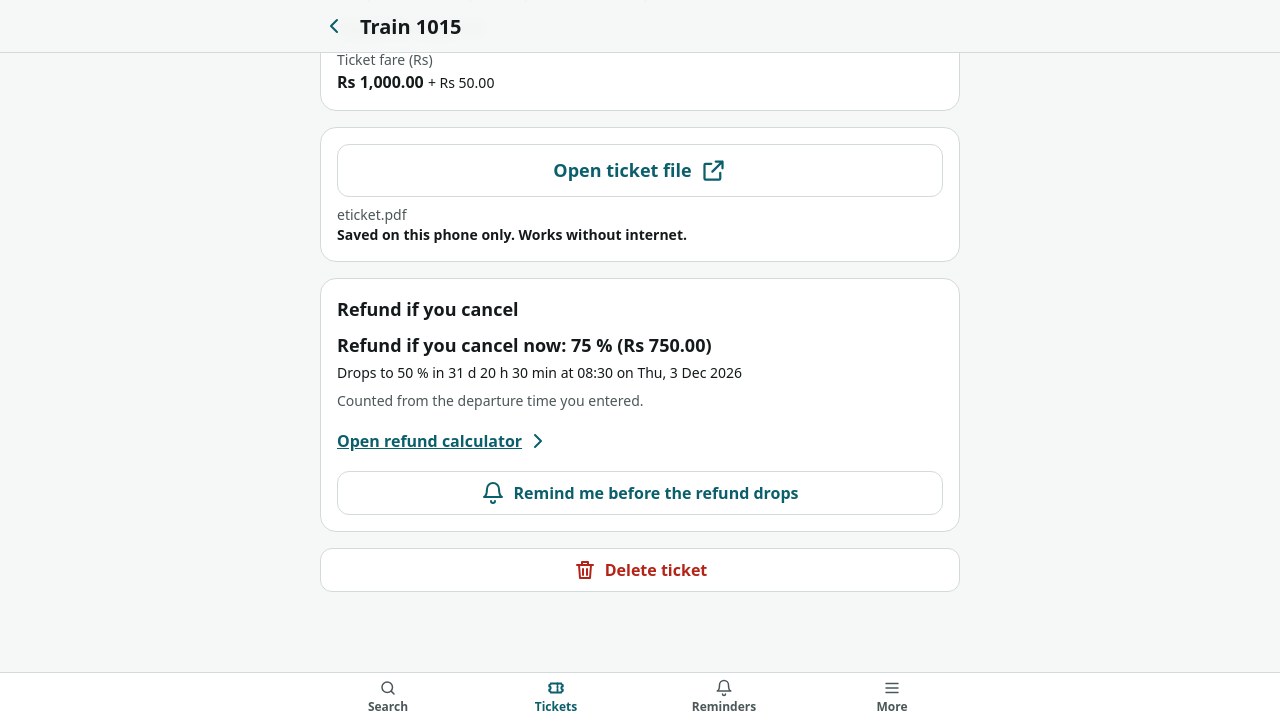
Test case: deleting › asks first; Cancel keeps the ticket, Delete removes it
The width and height of the screenshot is (1280, 720).
(page scrolled)
Click the button "Delete ticket" at (640, 570), box left=320, top=548, right=960, bottom=592
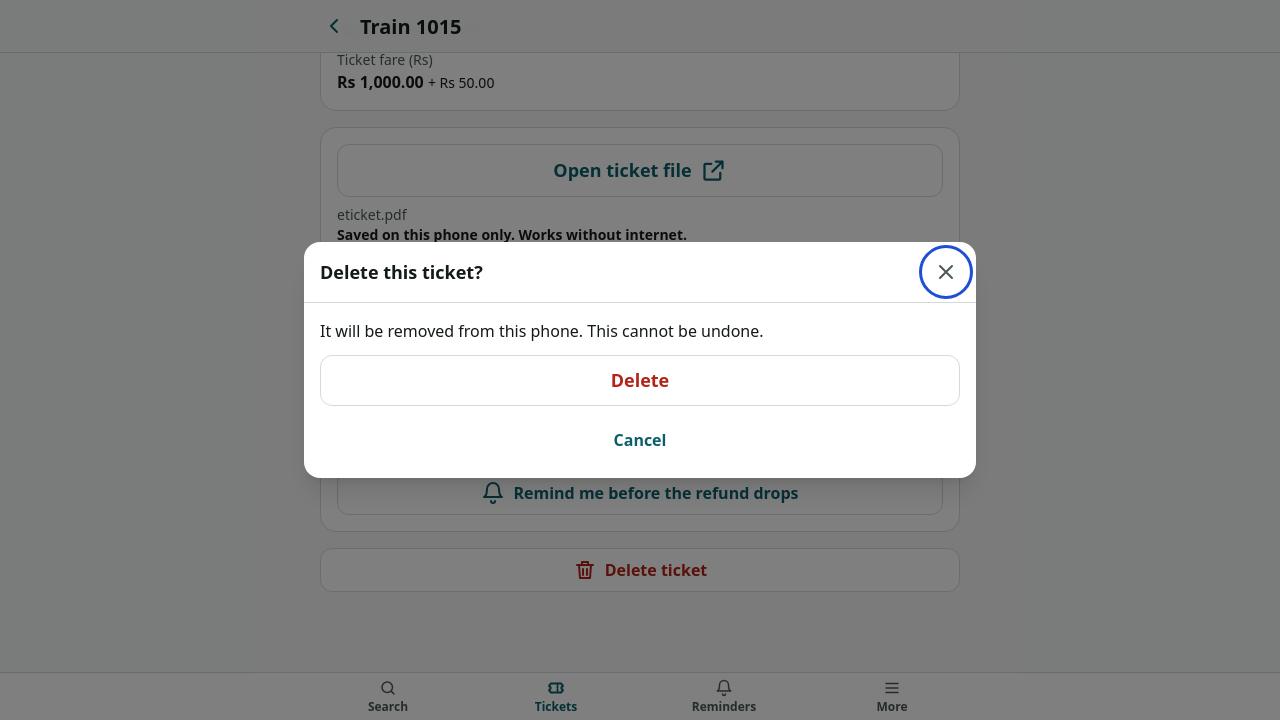
expect the text "It will be removed from this phone. This cannot be undone." is shown: met, box left=320, top=320, right=764, bottom=342
Click the button "Cancel" at (640, 440), box left=320, top=418, right=960, bottom=462
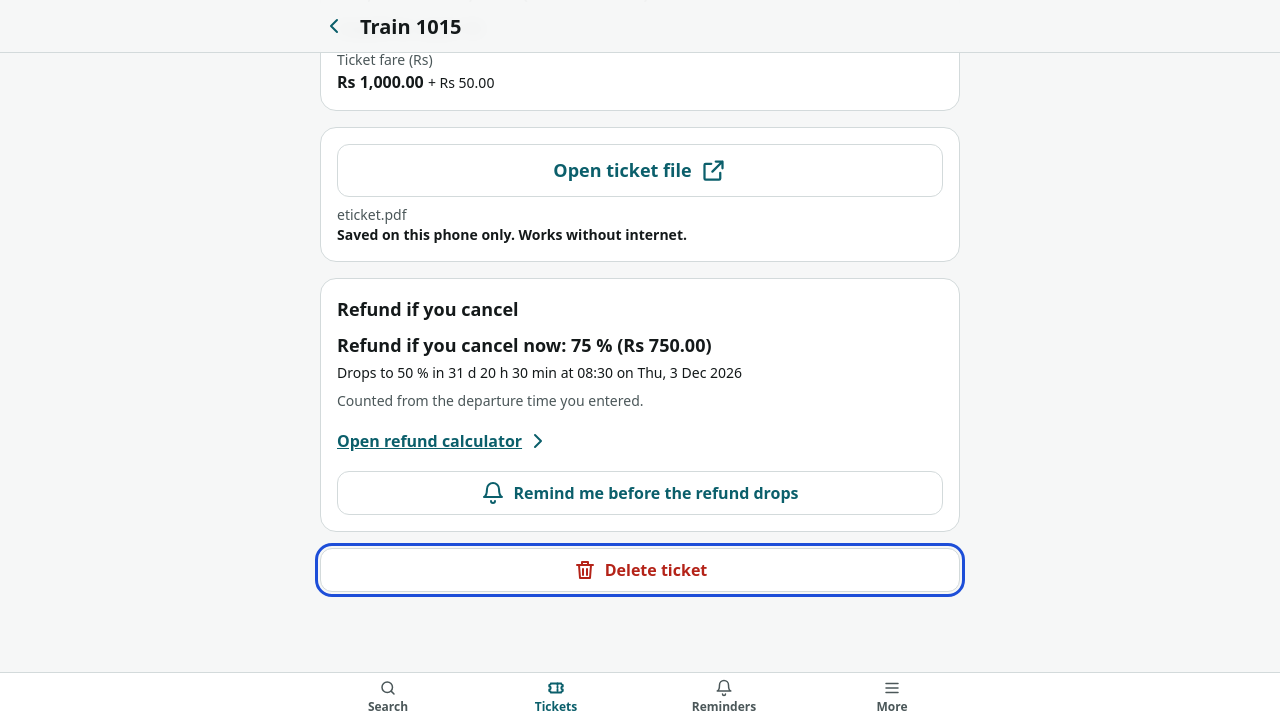
Click the button "Delete ticket" at (640, 570), box left=320, top=548, right=960, bottom=592
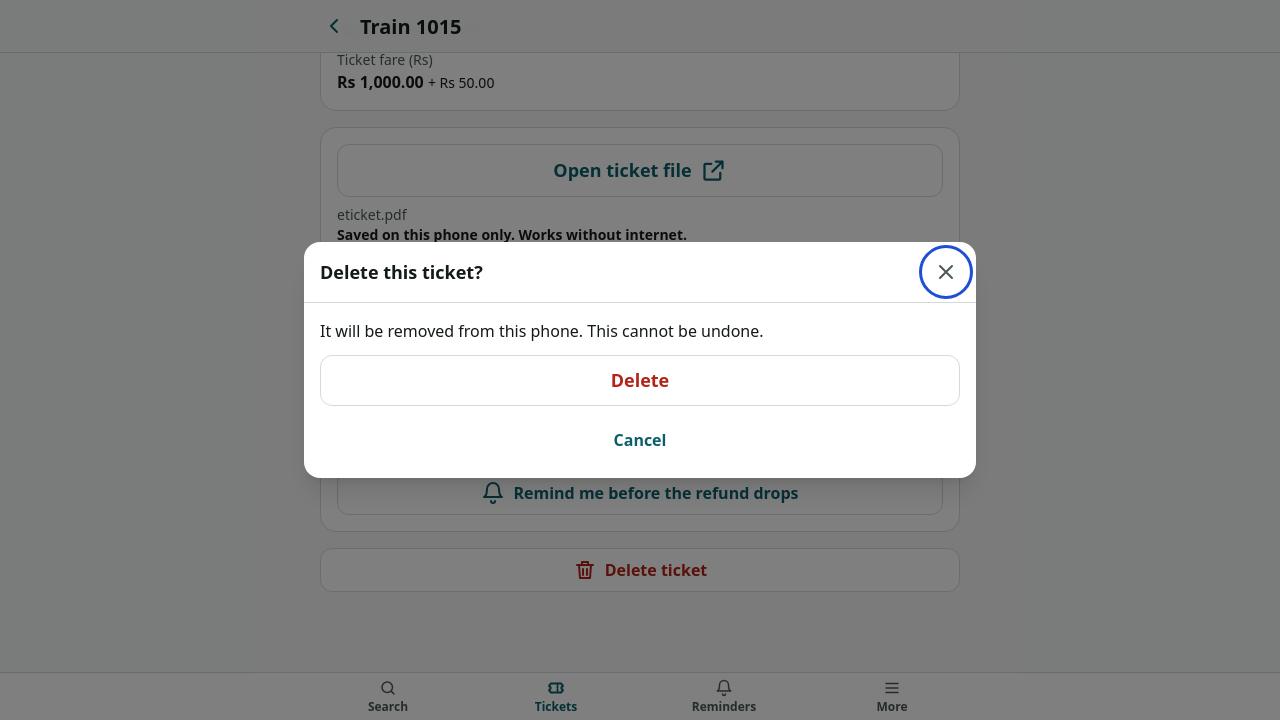
Click the button "Delete" at (640, 380), box left=320, top=355, right=960, bottom=406
(page scrolled)
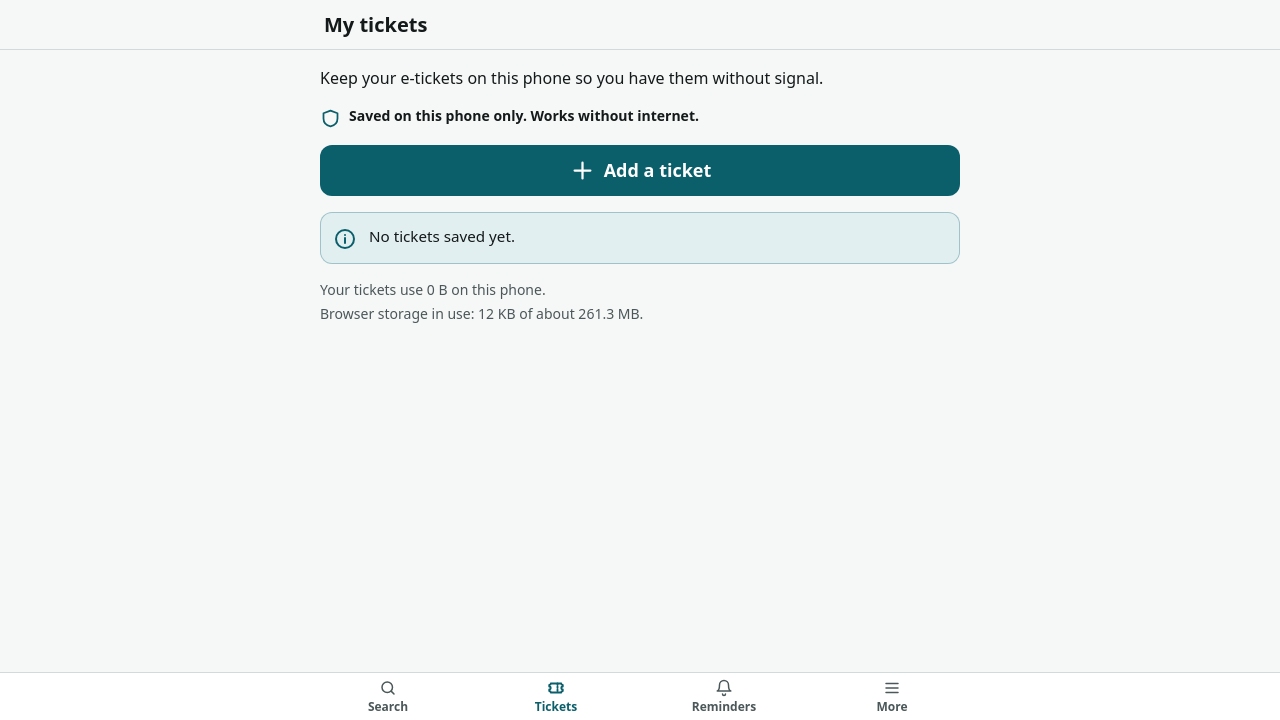
expect the text "No tickets saved yet." is shown: met, box left=369, top=225, right=515, bottom=248
